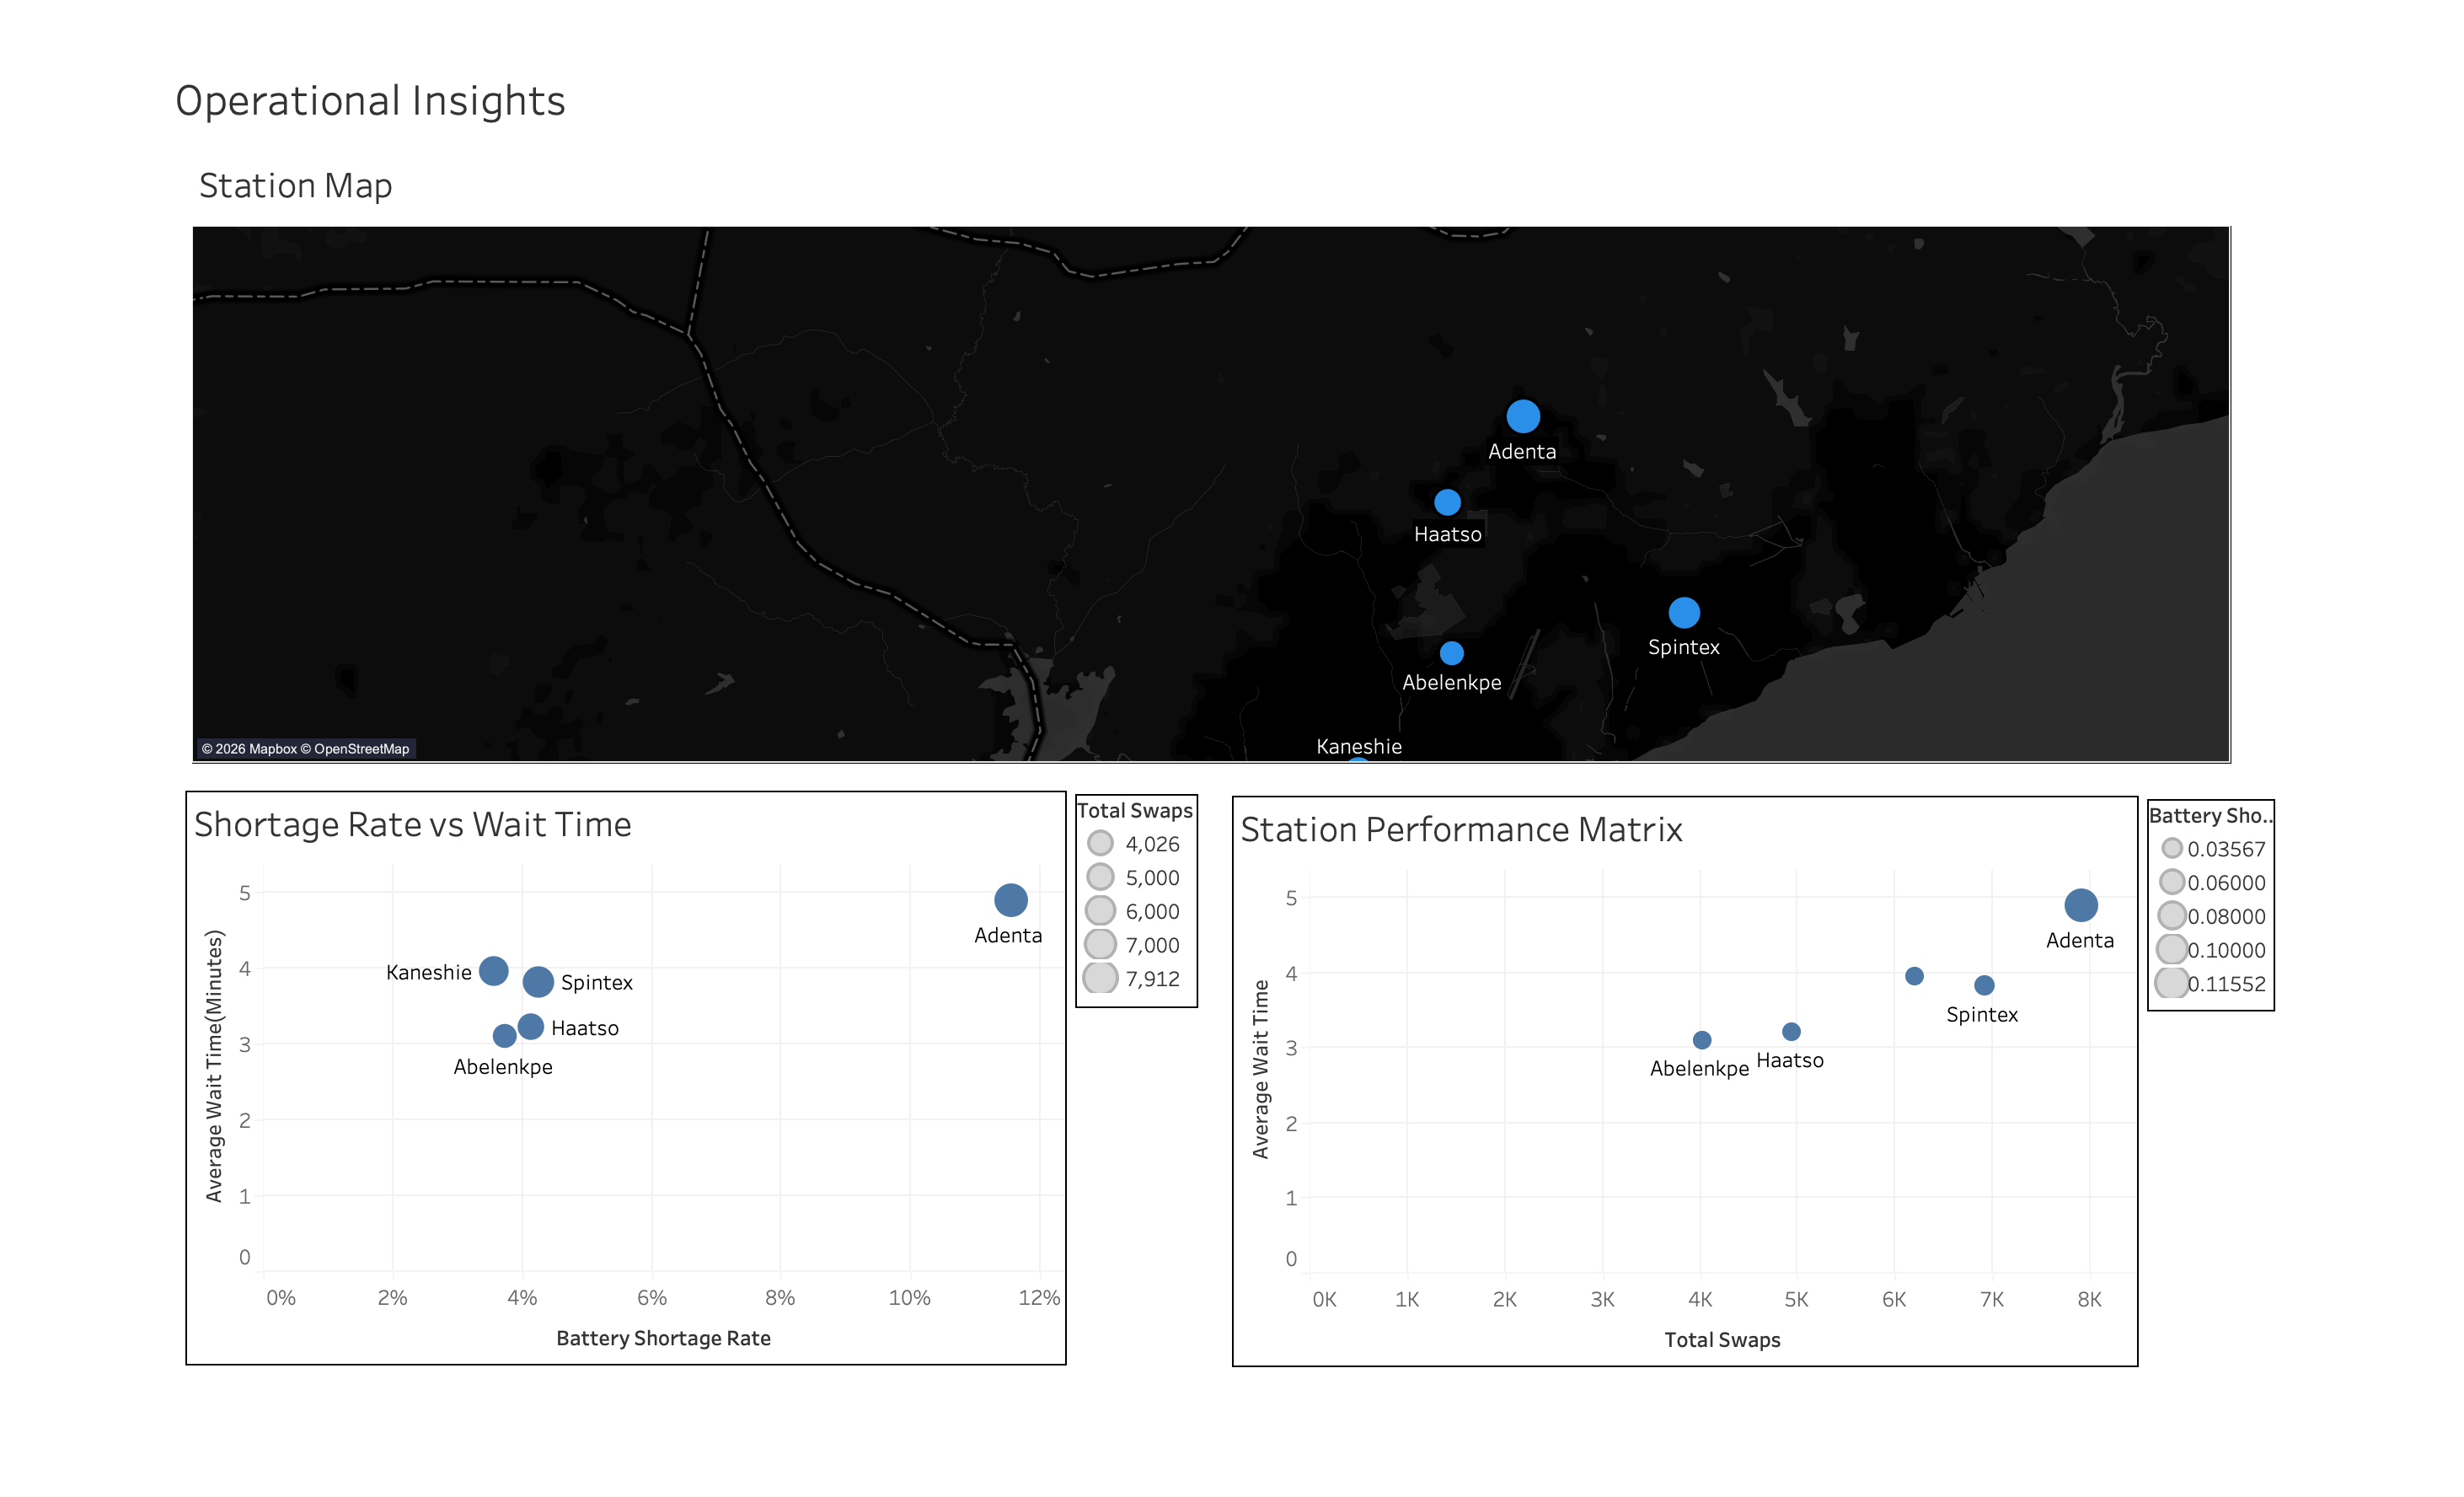

The page's visual inventory and layout, read from the dashboard file:
{"tool":"tableau","page":{"name":"Operational Insights","canvas":[1272,803],"ordinal":1},"visuals":[{"type":"title","box":[8,8,1256,42]},{"type":"worksheet","title":"Station Map","mark":"Automatic","rows":["latitude"],"cols":["longitude"],"box":[25,61,1210,362]},{"type":"worksheet","title":"Shortage Rate vs Wait Time","mark":"Circle","rows":["Calculation_3158453521936391"],"cols":["Calculation_3158453528150027"],"box":[21,439,523,341]},{"type":"legend","title":"Shortage Rate vs Wait Time","param":"[federated.1dofqpe05q9hcf11nmjnx0py8qc8].[usr:Calculation_3158453521510405:qk]","box":[549,441,73,127]},{"type":"worksheet","title":"Station Performance Matrix","mark":"Circle","rows":["Calculation_3158453521936391"],"cols":["Calculation_3158453521510405"],"box":[642,442,538,339]},{"type":"legend","title":"Station Performance Matrix","param":"[federated.1dofqpe05q9hcf11nmjnx0py8qc8].[usr:Calculation_3158453528150027:qk]","box":[1185,444,76,126]}]}

Visuals, with their boxes on the page's 1272x803 design canvas (x1, y1, x2, y2). These are canvas units, not pixel positions in the 2464x1497 screenshot, which may show the page scaled, cropped or inside an application window:
title: [8, 8, 1264, 50]
"Station Map" worksheet: [25, 61, 1235, 423]
"Shortage Rate vs Wait Time" worksheet (Circle marks): [21, 439, 544, 780]
"Shortage Rate vs Wait Time" legend: [549, 441, 622, 568]
"Station Performance Matrix" worksheet (Circle marks): [642, 442, 1180, 781]
"Station Performance Matrix" legend: [1185, 444, 1261, 570]
